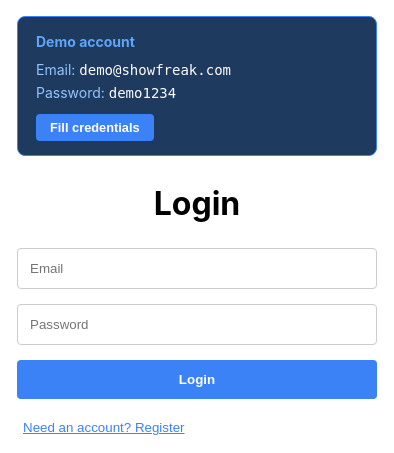
Test: AuthPage › switches to the register form when the toggle is clicked
The image size is (394, 453).
Click the button "Need an account? Register" at (104, 428), box 17,419 -> 190,436
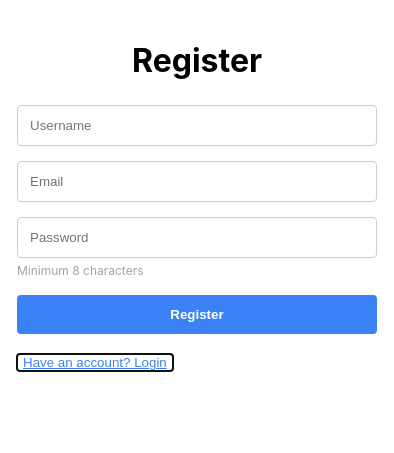
expect the heading "Register" is shown: met, box 132,41 -> 262,80
